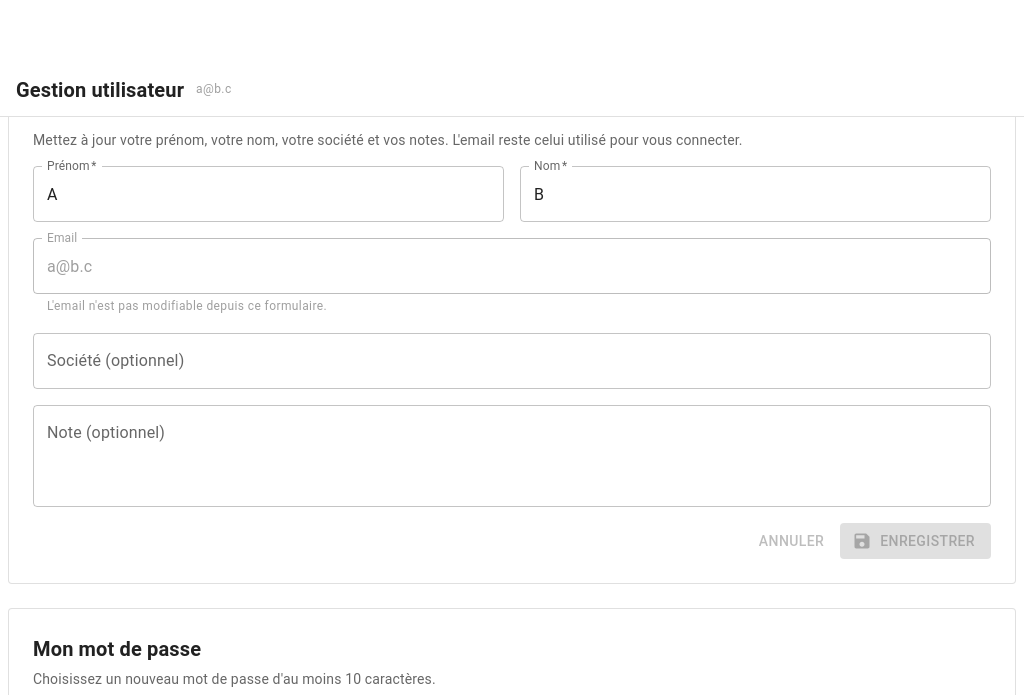
Test: UserManagementPage — "Mes informations" section › submit failure with a field error lands under the right input (no snackbar)
Type "just to dirty the form" into the text box labelled "Note (optionnel)".
click(512, 456); type("just to dirty the form")  # box left=47, top=421, right=977, bottom=490
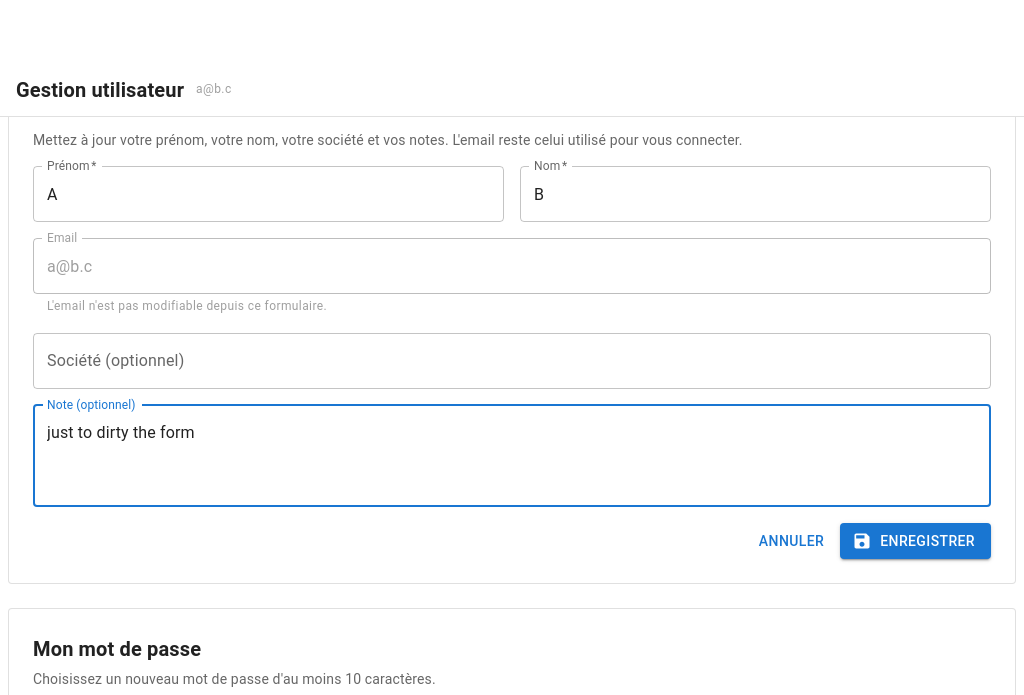
Click the button "Enregistrer".
click(916, 541)  # box left=840, top=523, right=991, bottom=559
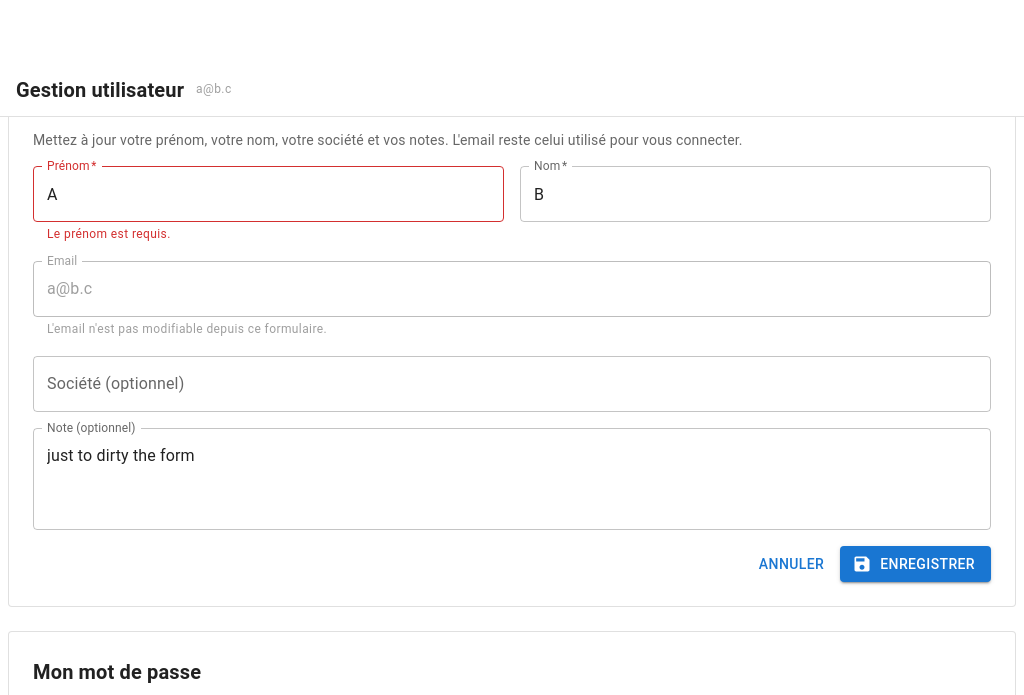
Now the text "Le prénom est requis." is shown, box left=47, top=227, right=171, bottom=241
